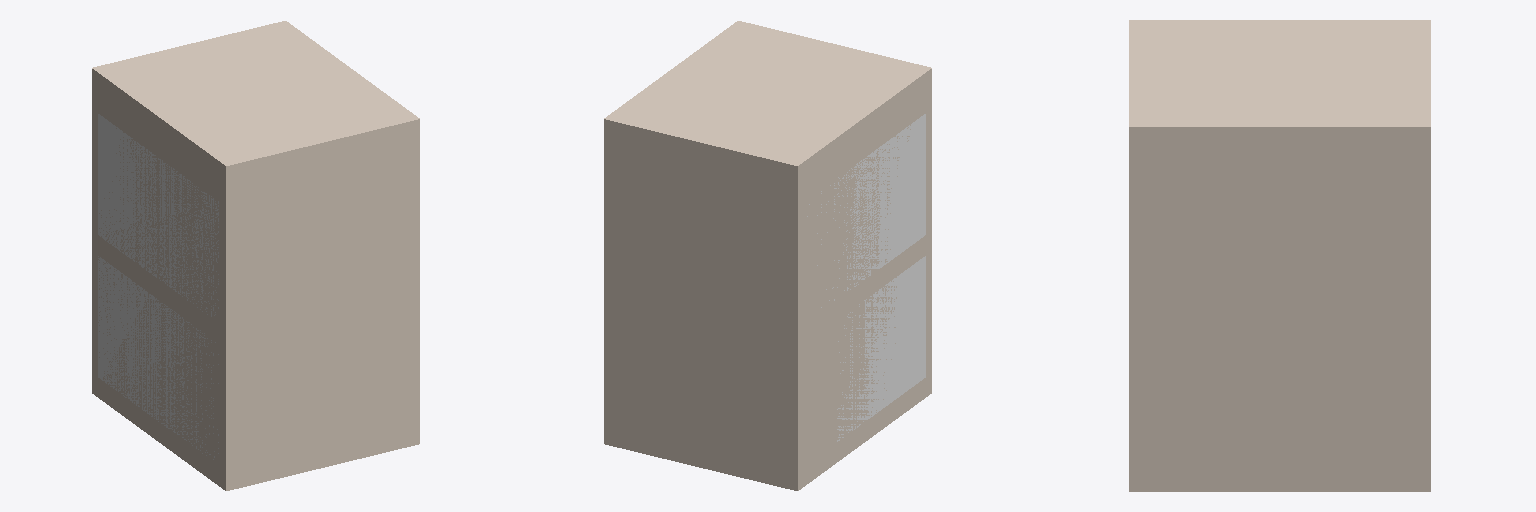
robot.urdf — sektion_cabinet:
<!-- Place for location to be decided -->
<robot name="sektion_cabinet">
  <material name="cabinet_wood">
    <color rgba="0.9 0.85 0.8 1.0"/>
  </material>
  <material name="cabinet_drawer_white">
    <color rgba="0.95 0.95 0.95 1.0"/>
  </material>
  <material name="cabinet_metal">
    <color rgba="0.4 0.4 0.4 1.0"/>
  </material>

  <!-- Cabinet base link -->
  <link name="cabinet_base_link">
    <inertial>
      <mass value="50.0"/>
      <inertia ixx="1.0" ixy="0.0" ixz="0.0" iyy="1.0" iyz="0.0" izz="1.0"/>
    </inertial>
  </link>

  <!-- Cabinet main body structure -->
  <link name="cabinet_body">
    <visual>
      <geometry>
        <!-- A cabinet structure: size 0.5m depth (X), 0.6m width (Y), 0.8m height (Z) -->
        <box size="0.5 0.6 0.8"/>
      </geometry>
      <origin xyz="0.0 0.0 0.4" rpy="0 0 0"/>
      <material name="cabinet_wood"/>
    </visual>
    <collision>
      <geometry>
        <box size="0.5 0.6 0.8"/>
      </geometry>
      <origin xyz="0.0 0.0 0.4" rpy="0 0 0"/>
    </collision>
    <inertial>
      <mass value="30.0"/>
      <origin xyz="0.0 0.0 0.4"/>
      <inertia ixx="1.0" ixy="0.0" ixz="0.0" iyy="1.0" iyz="0.0" izz="1.0"/>
    </inertial>
  </link>

  <joint name="cabinet_body_fixed" type="fixed">
    <parent link="cabinet_base_link"/>
    <child link="cabinet_body"/>
    <origin xyz="0 0 0" rpy="0 0 0"/>
  </joint>

  <!-- Top Drawer -->
  <link name="drawer_top">
    <visual>
      <geometry>
        <!-- Top Drawer: depth 0.45m, width 0.54m, height 0.3m -->
        <box size="0.45 0.54 0.3"/>
      </geometry>
      <origin xyz="0.0 0.0 0.0" rpy="0 0 0"/>
      <material name="cabinet_drawer_white"/>
    </visual>
    <collision>
      <geometry>
        <box size="0.45 0.54 0.3"/>
      </geometry>
      <origin xyz="0.0 0.0 0.0" rpy="0 0 0"/>
    </collision>
    <inertial>
      <mass value="2.0"/>
      <origin xyz="0.0 0.0 0.0"/>
      <inertia ixx="0.05" ixy="0.0" ixz="0.0" iyy="0.05" iyz="0.0" izz="0.05"/>
    </inertial>
  </link>

  <!-- Top Drawer Joint: pulling toward the robot opens drawer (pos goes from 0 to -0.35) -->
  <joint name="drawer_top_joint" type="prismatic">
    <parent link="cabinet_body"/>
    <child link="drawer_top"/>
    <!-- Positioned in the upper half of the cabinet -->
    <origin xyz="-0.025 0.0 0.55" rpy="0 0 0"/>
    <axis xyz="1.0 0.0 0.0"/>
    <limit lower="-0.35" upper="0.0" effort="100.0" velocity="2.0"/>
    <dynamics damping="3.0" friction="0.5"/>
  </joint>

  <!-- Top Drawer Handle -->
  <link name="drawer_top_handle">
    <visual>
      <geometry>
        <!-- Horizontal handle bar: depth 0.02m, width 0.15m, height 0.02m -->
        <box size="0.02 0.15 0.02"/>
      </geometry>
      <origin xyz="0.0 0.0 0.0" rpy="0 0 0"/>
      <material name="cabinet_metal"/>
    </visual>
    <collision>
      <geometry>
        <box size="0.02 0.15 0.02"/>
      </geometry>
      <origin xyz="0.0 0.0 0.0" rpy="0 0 0"/>
    </collision>
    <inertial>
      <mass value="0.1"/>
      <origin xyz="0.0 0.0 0.0"/>
      <inertia ixx="0.0001" ixy="0.0" ixz="0.0" iyy="0.0001" iyz="0.0" izz="0.0001"/>
    </inertial>
  </link>

  <joint name="drawer_top_handle_joint" type="fixed">
    <parent link="drawer_top"/>
    <child link="drawer_top_handle"/>
    <!-- Mounted on the front face of the top drawer -->
    <origin xyz="0.235 0.0 0.0" rpy="0 0 0"/>
  </joint>


  <!-- Bottom Drawer -->
  <link name="drawer_bottom">
    <visual>
      <geometry>
        <box size="0.45 0.54 0.3"/>
      </geometry>
      <origin xyz="0.0 0.0 0.0" rpy="0 0 0"/>
      <material name="cabinet_drawer_white"/>
    </visual>
    <collision>
      <geometry>
        <box size="0.45 0.54 0.3"/>
      </geometry>
      <origin xyz="0.0 0.0 0.0" rpy="0 0 0"/>
    </collision>
    <inertial>
      <mass value="2.0"/>
      <origin xyz="0.0 0.0 0.0"/>
      <inertia ixx="0.05" ixy="0.0" ixz="0.0" iyy="0.05" iyz="0.0" izz="0.05"/>
    </inertial>
  </link>

  <!-- Bottom Drawer Joint: pulling toward the robot opens drawer (pos goes from 0 to -0.35) -->
  <joint name="drawer_bottom_joint" type="prismatic">
    <parent link="cabinet_body"/>
    <child link="drawer_bottom"/>
    <!-- Positioned in the lower half of the cabinet -->
    <origin xyz="-0.025 0.0 0.2" rpy="0 0 0"/>
    <axis xyz="1.0 0.0 0.0"/>
    <limit lower="-0.35" upper="0.0" effort="100.0" velocity="2.0"/>
    <dynamics damping="3.0" friction="0.5"/>
  </joint>

  <!-- Bottom Drawer Handle -->
  <link name="drawer_bottom_handle">
    <visual>
      <geometry>
        <box size="0.02 0.15 0.02"/>
      </geometry>
      <origin xyz="0.0 0.0 0.0" rpy="0 0 0"/>
      <material name="cabinet_metal"/>
    </visual>
    <collision>
      <geometry>
        <box size="0.02 0.15 0.02"/>
      </geometry>
      <origin xyz="0.0 0.0 0.0" rpy="0 0 0"/>
    </collision>
    <inertial>
      <mass value="0.1"/>
      <origin xyz="0.0 0.0 0.0"/>
      <inertia ixx="0.0001" ixy="0.0" ixz="0.0" iyy="0.0001" iyz="0.0" izz="0.0001"/>
    </inertial>
  </link>

  <joint name="drawer_bottom_handle_joint" type="fixed">
    <parent link="drawer_bottom"/>
    <child link="drawer_bottom_handle"/>
    <!-- Mounted on the front face of the bottom drawer -->
    <origin xyz="0.235 0.0 0.0" rpy="0 0 0"/>
  </joint>

</robot>

--- Facts derived from the render (not from the file) ---
3 views of the same robot in one strip: view 1: azimuth 30°, elevation 25°; view 2: azimuth 150°, elevation 25°; view 3: azimuth 270°, elevation 25° (orthographic).
Model sektion_cabinet with 6 links and 5 joints (2 prismatic, 3 fixed), rooted at cabinet_base_link, posed all joints at 0.
Visible links, largest first — view 1: cabinet_body, drawer_top, drawer_bottom; view 2: cabinet_body, drawer_top, drawer_bottom; view 3: cabinet_body.
Boxes of the visible links, box(x1,y1,x2,y2) form: cabinet_body: box(92, 21, 419, 490); drawer_top: box(98, 114, 218, 316); drawer_bottom: box(98, 256, 218, 459); cabinet_body: box(604, 21, 931, 490); drawer_top: box(807, 114, 925, 307); drawer_bottom: box(837, 256, 925, 441); cabinet_body: box(1129, 20, 1430, 491).
Bounding box of the posed robot: 0.5 × 0.6 × 0.8 m (x, y, z).
Geometry: primitives only (box / cylinder / sphere), no mesh files.
